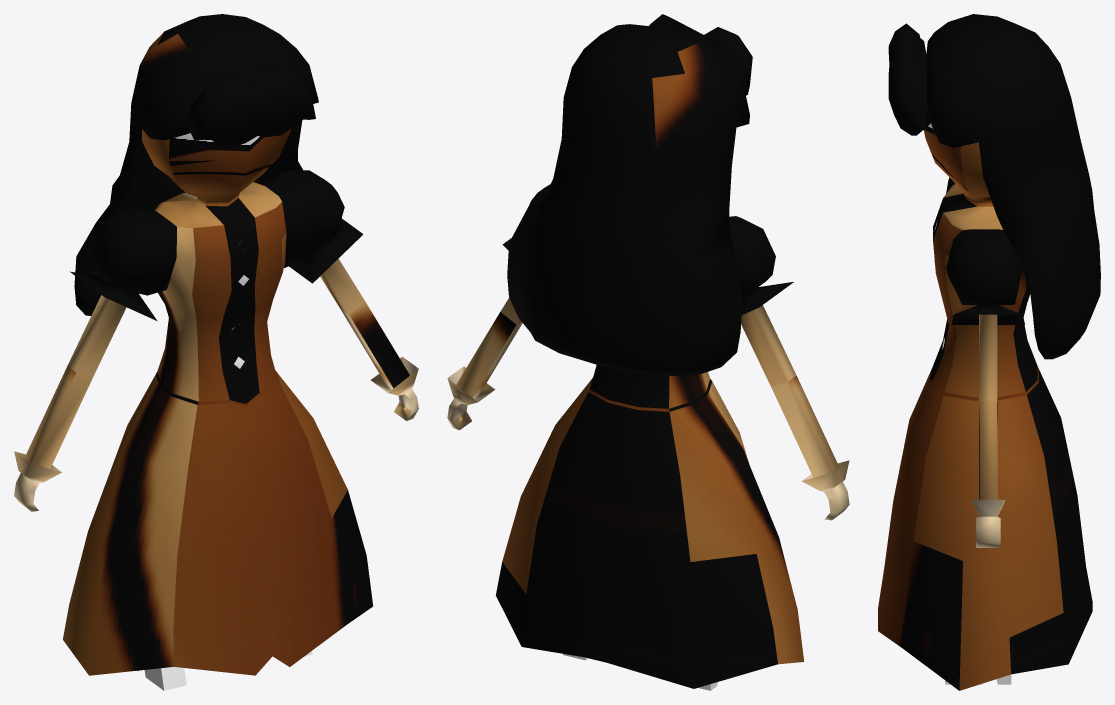
File: Zilda.fbx
3 renders of one model, left to right at view 1: azimuth 30°, elevation 25°; view 2: azimuth 150°, elevation 25°; view 3: azimuth 270°, elevation 25°, orthographic.
Visible parts, largest first — view 1: Cube; view 2: Cube; view 3: Cube.
Boxes of the visible parts, x1,y1,x2,y2 form: Cube: (14, 14, 418, 690); Cube: (447, 14, 849, 690); Cube: (878, 14, 1100, 690).
Bounding box in the file's own units: 206 × 317 × 103.
